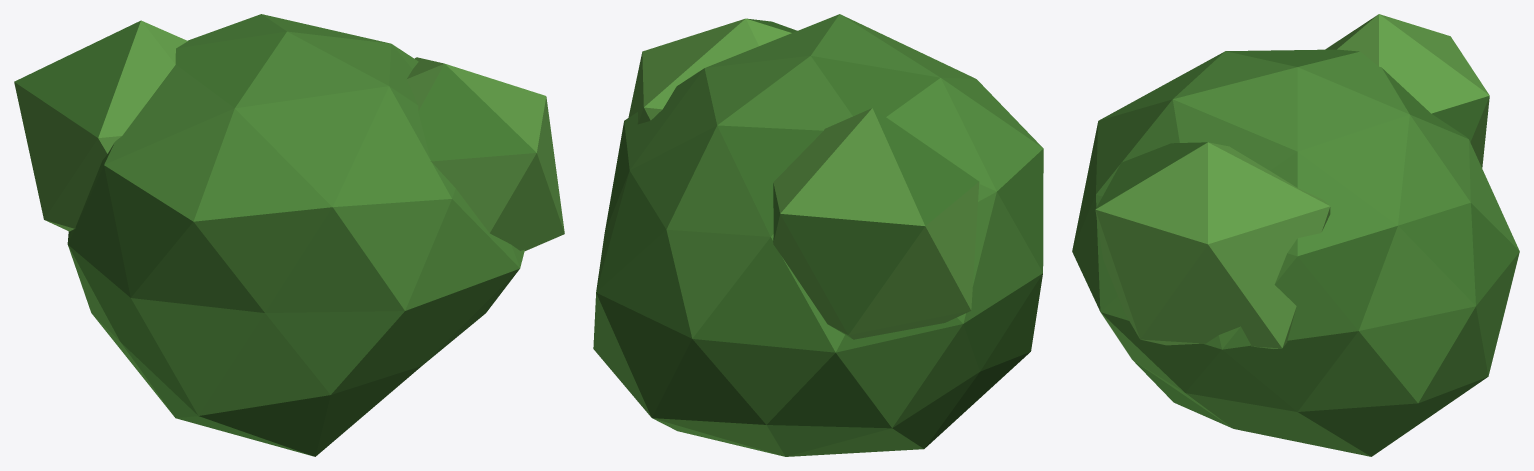
Rendered from shrub_round.glb.
3 views of the same model, side by side, from view 1: azimuth 30°, elevation 25°; view 2: azimuth 150°, elevation 25°; view 3: azimuth 270°, elevation 25° (orthographic). The views are drawn at different scales.
Parts seen in each view (by area): view 1: shrub_round; view 2: shrub_round; view 3: shrub_round.
Part boxes in pixels (box(x1,y1,x2,y2)): shrub_round: box(14, 14, 564, 456); shrub_round: box(593, 14, 1043, 456); shrub_round: box(1072, 14, 1519, 456).
Bounding box in the file's own units: 1.12 × 0.9746 × 1.1.
